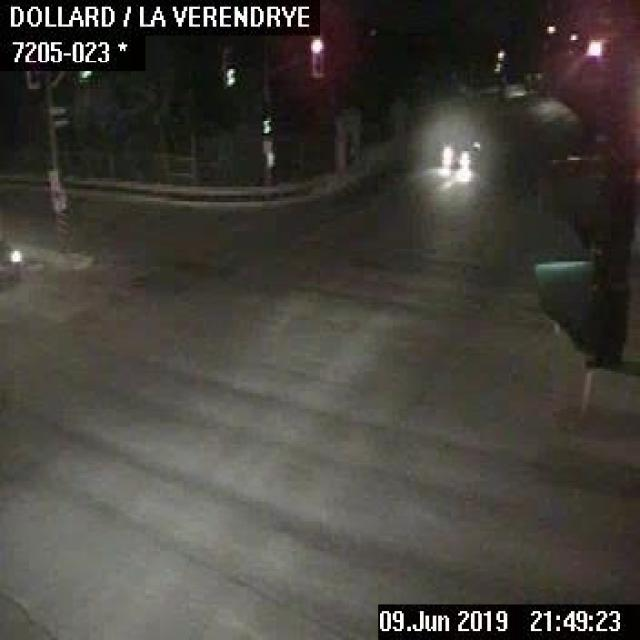vehicle: (436, 132, 485, 168), (0, 240, 22, 289)
